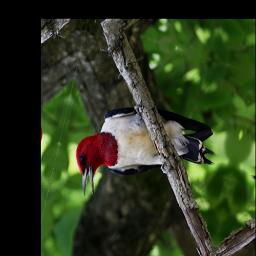Woodpecker: (67, 81, 224, 237)
